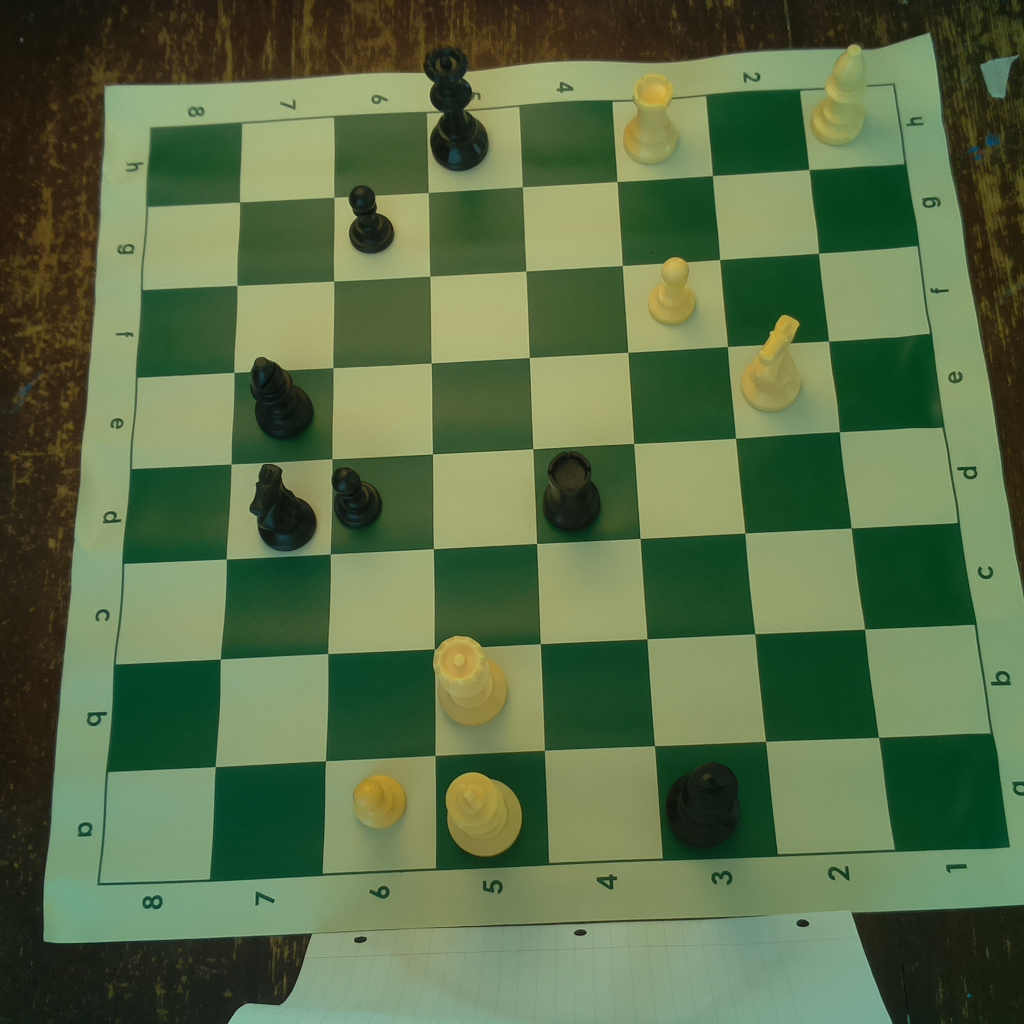black_bishop: (241, 354, 321, 438)
black_king: (660, 752, 747, 851)
black_knight: (240, 458, 319, 552)
black_pawn: (340, 180, 398, 258), (327, 465, 390, 534)
black_queen: (421, 40, 496, 173)
black_rook: (538, 445, 607, 539)
file_a: (96, 734, 1011, 886)
file_b: (106, 622, 993, 774)
file_c: (112, 525, 975, 665)
file_d: (123, 428, 962, 565)
file_e: (128, 332, 942, 469)
file_f: (137, 245, 932, 377)
file_g: (141, 167, 919, 292)
file_h: (146, 86, 906, 209)
outline: (99, 86, 1011, 886)
rank_1: (801, 83, 1012, 853)
rank_2: (706, 88, 897, 854)
rank_3: (612, 96, 781, 857)
rank_4: (521, 101, 666, 861)
rank_5: (425, 105, 551, 870)
rank_6: (321, 114, 438, 873)
rank_7: (212, 119, 332, 884)
rank_8: (99, 123, 244, 886)
white_bishop: (807, 43, 872, 148)
white_king: (440, 767, 524, 864)
white_knight: (738, 308, 812, 415)
white_pawn: (345, 767, 410, 831), (647, 252, 699, 330)
white_queen: (428, 630, 514, 731)
white_rook: (614, 69, 685, 166)
